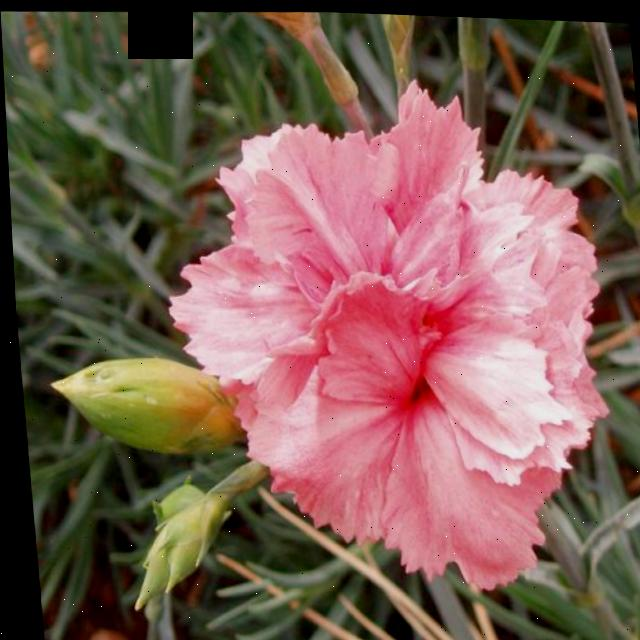carnation: (164, 82, 619, 593)
